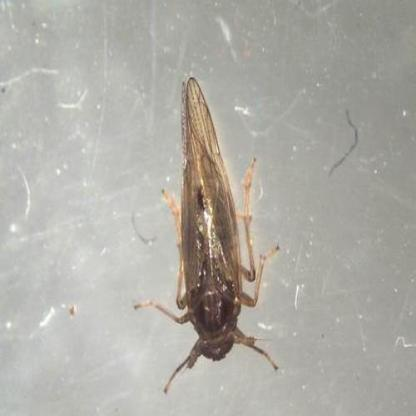brown-planthopper: (154, 75, 280, 381)
